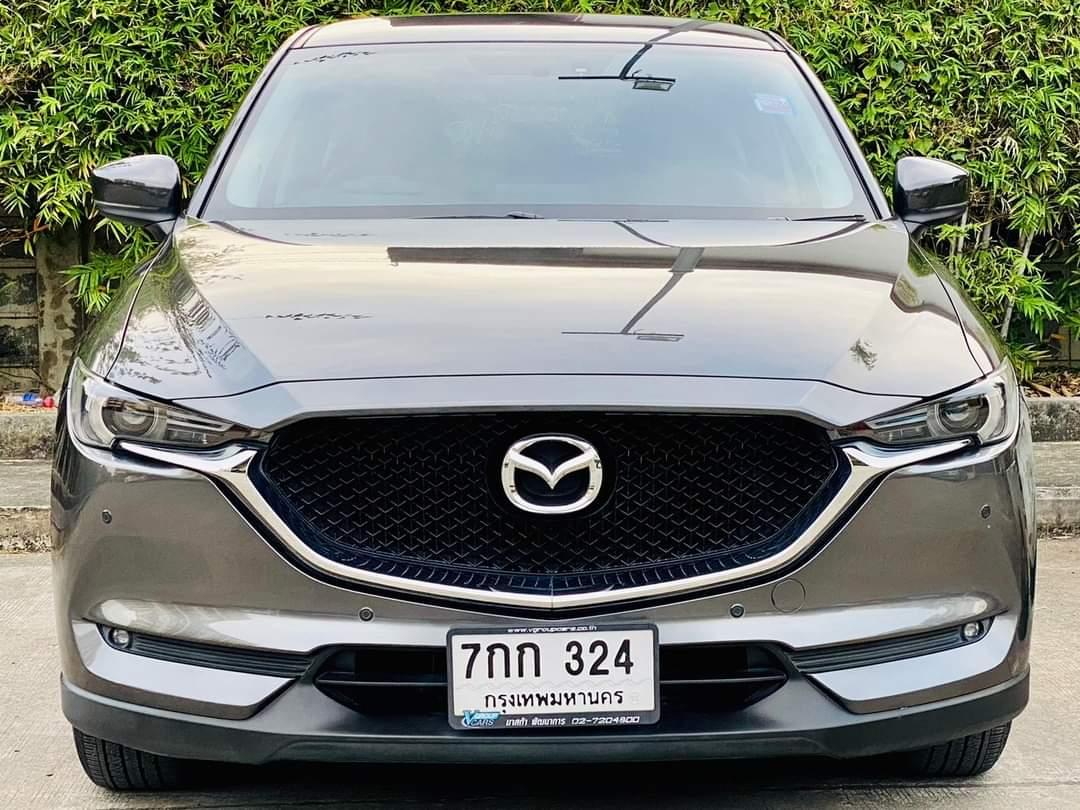license-plate: (449, 625, 661, 726)
